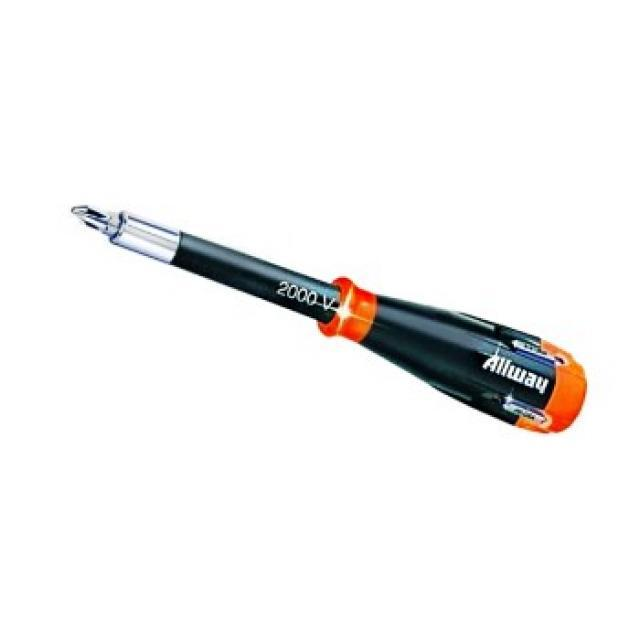screwdriver: (63, 192, 592, 446)
